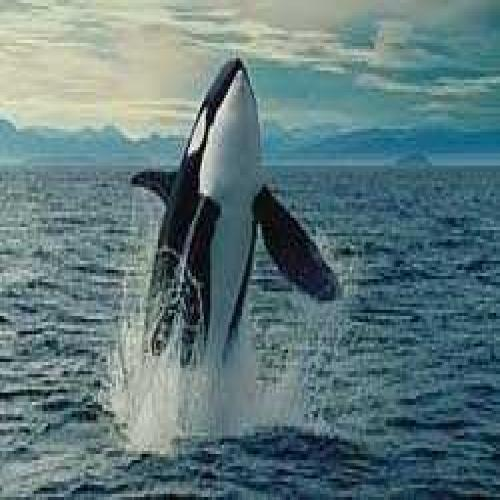killer_whale-endangered: (130, 43, 312, 421)
